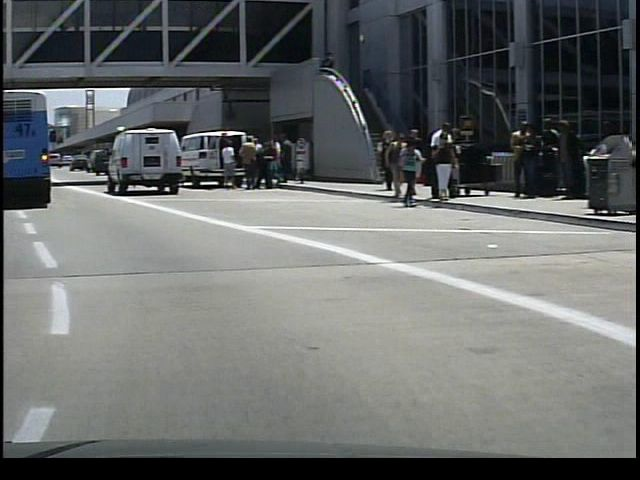person: (428, 121, 459, 202), (425, 129, 453, 203), (233, 135, 261, 193), (274, 132, 295, 184), (216, 136, 234, 192)
